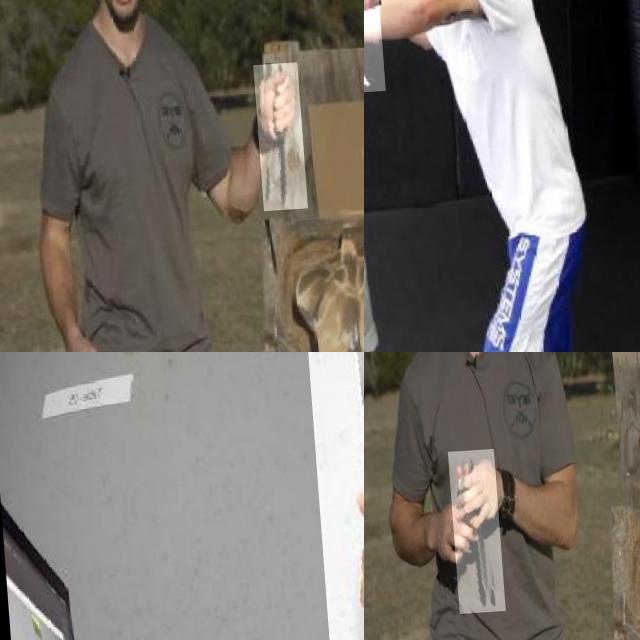-: (302, 352, 364, 640), (443, 453, 498, 618), (250, 69, 302, 217), (364, 0, 412, 100)
